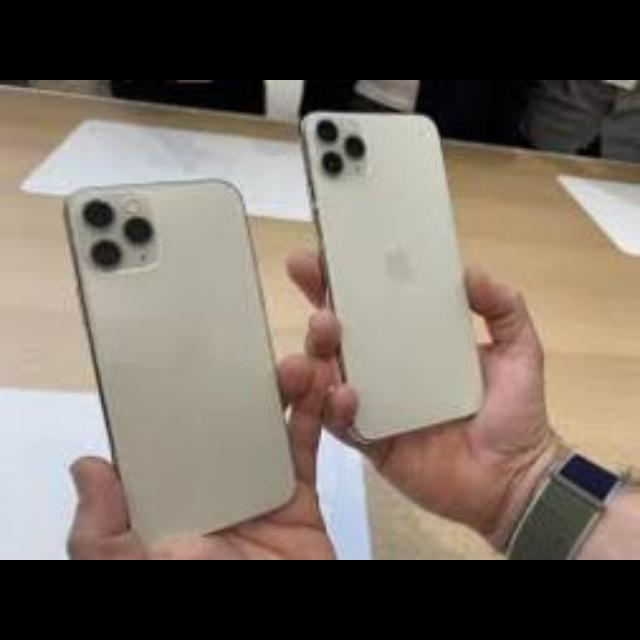Phone: (64, 182, 300, 540), (300, 111, 490, 442)
